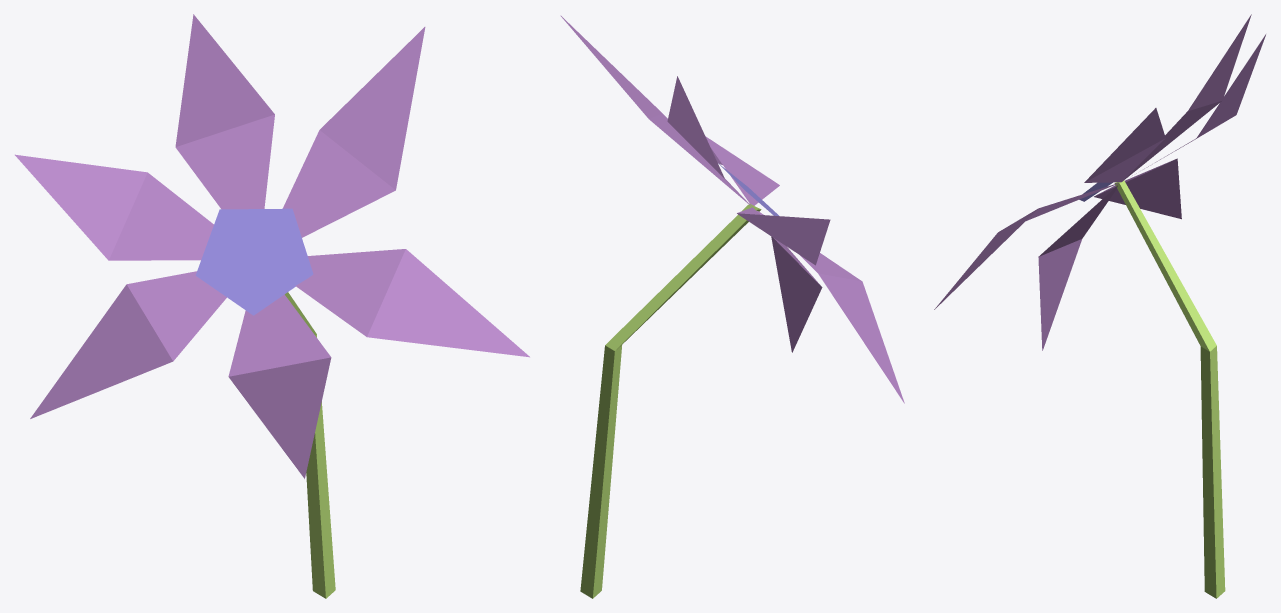
File: Flower_b_TwoS_05.fbx
The picture shows the model from 3 angles, left to right: view 1: azimuth 30°, elevation 25°; view 2: azimuth 150°, elevation 25°; view 3: azimuth 270°, elevation 25°; orthographic projection. The views are drawn at different scales.
Visible parts, largest first — view 1: Flower_b_TwoS_05; view 2: Flower_b_TwoS_05; view 3: Flower_b_TwoS_05.
Part boxes in pixels (box(x1,y1,x2,y2)): Flower_b_TwoS_05: box(15, 14, 529, 598); Flower_b_TwoS_05: box(560, 15, 904, 598); Flower_b_TwoS_05: box(934, 14, 1265, 598).
Size of the model in its own units: 0.2992 by 0.4435 by 0.2521.
